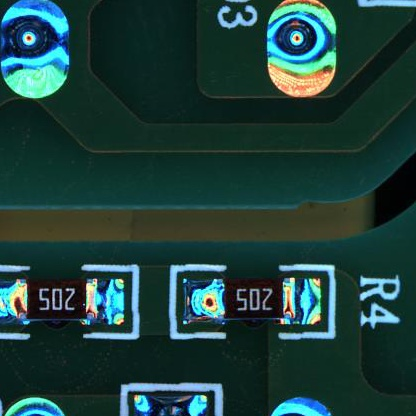spot: (265, 1, 340, 100), (1, 1, 69, 99)
